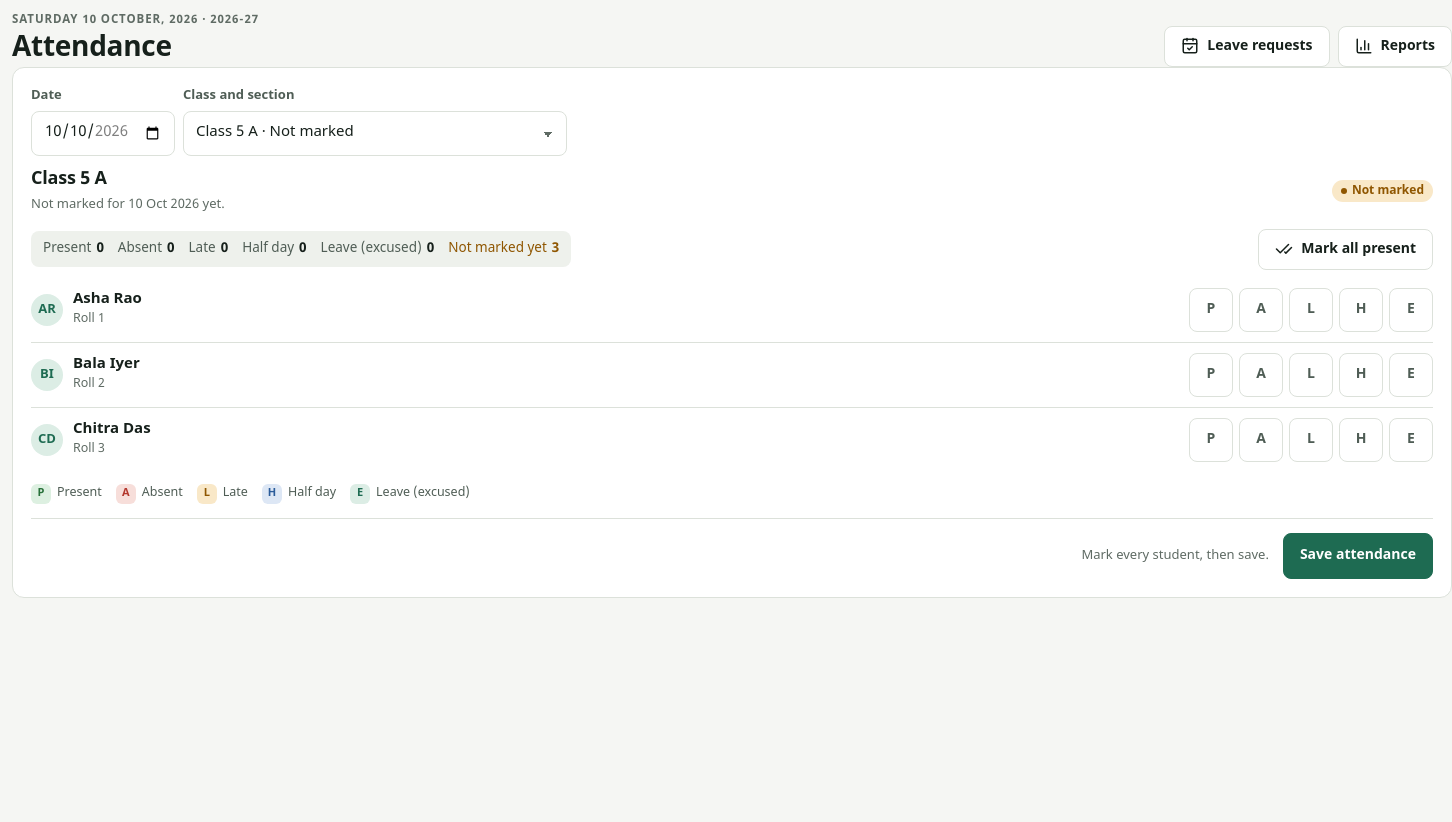
Test case: AttendanceView › will not save until every student has a mark
What coordinates should you click on to do the following:
click the button named "Late"
I would click on:
 (1311, 310)
Its box is [1289,288,1333,332].
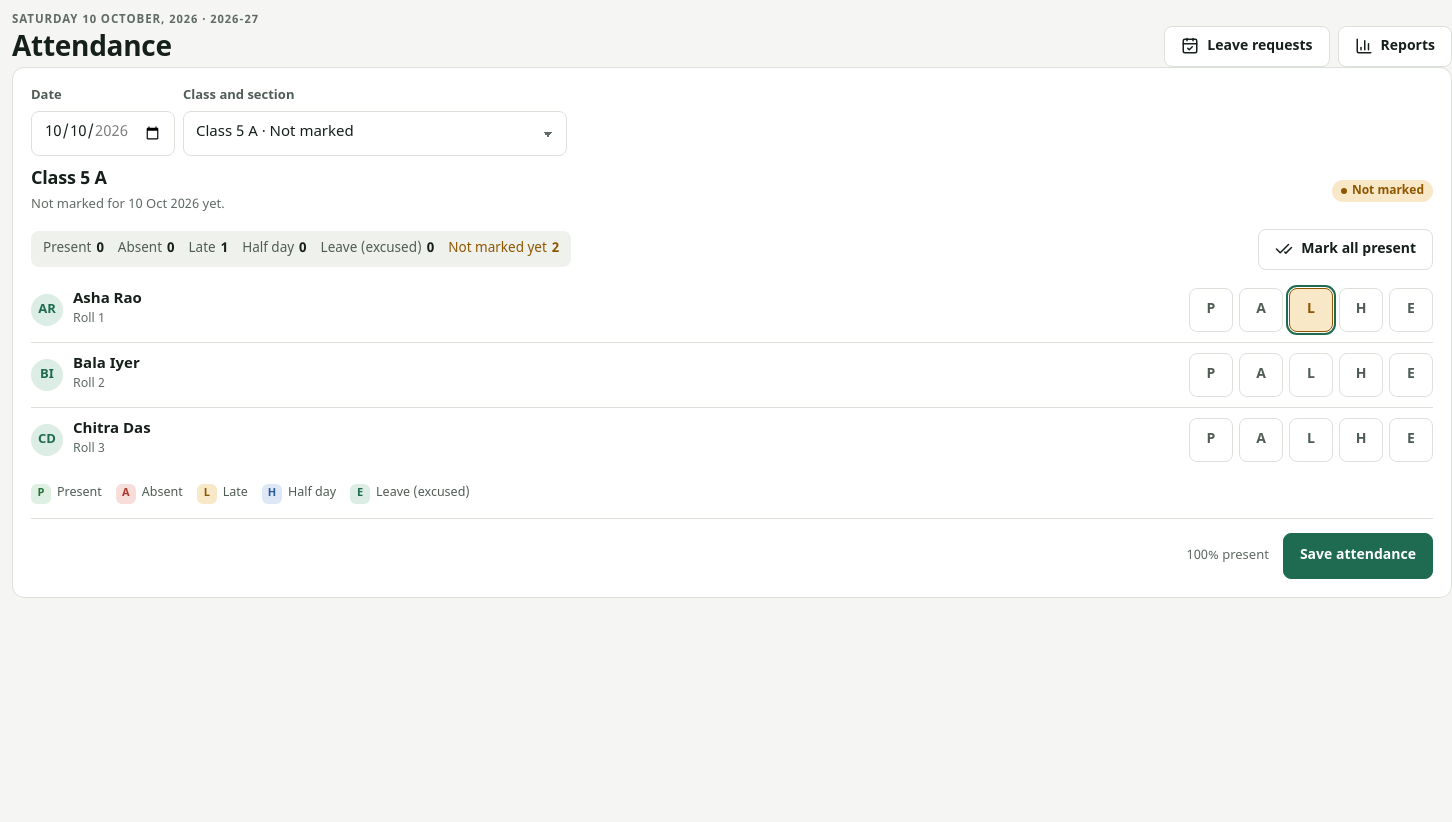
What coordinates should you click on to do the following:
click the button with test id "attendance-save"
I would click on:
 (1358, 556)
Its box is [1283,533,1433,579].
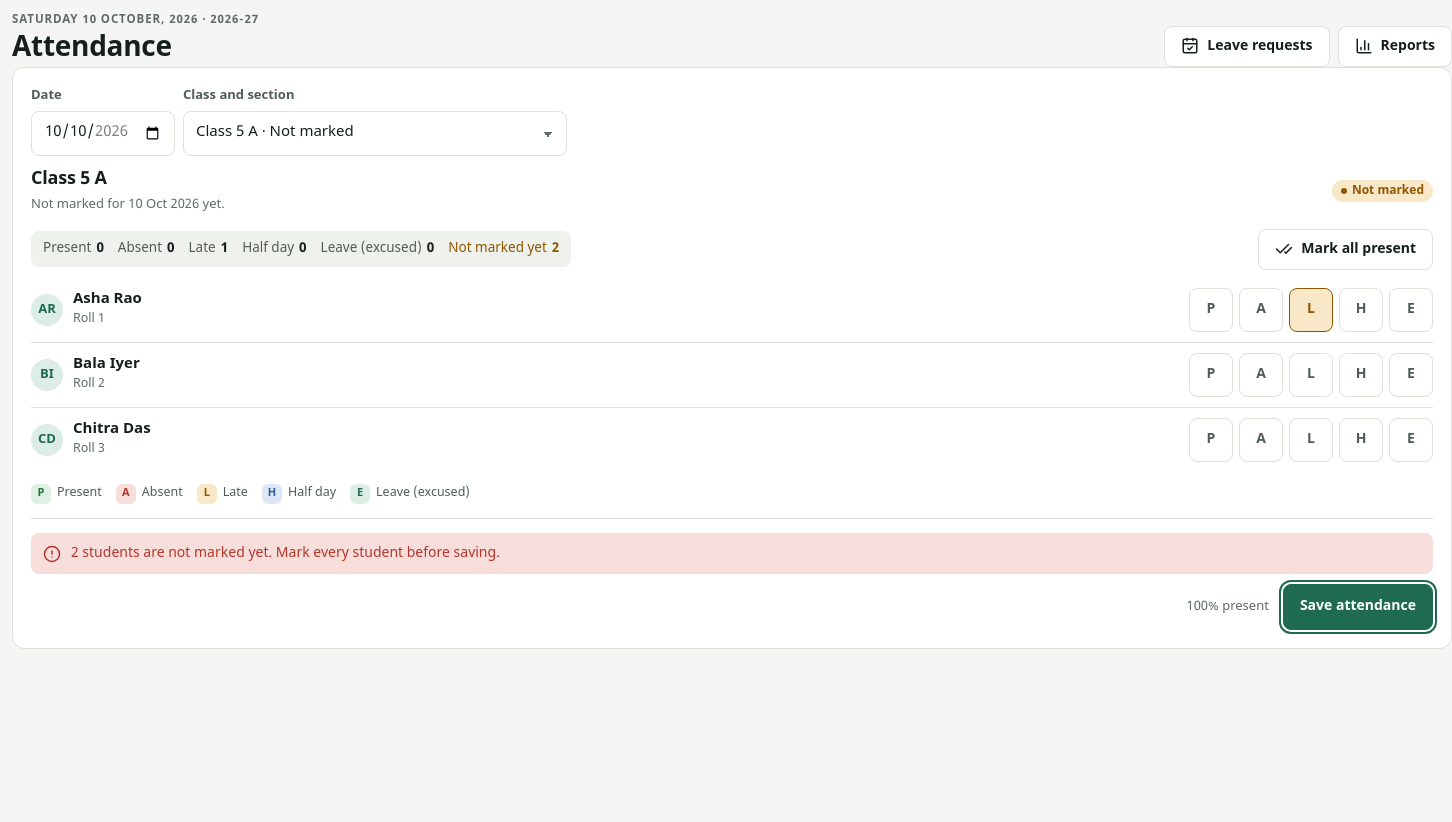
Now the message shows "2 students are not marked yet.", box [71,544,500,563]
